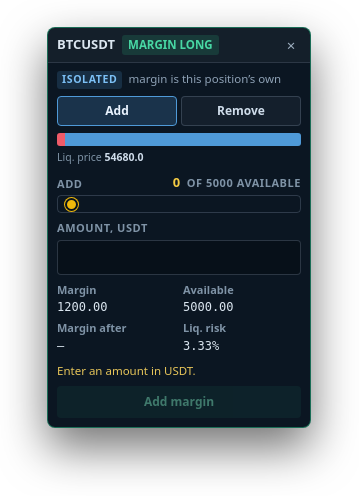
Test: FuturesPositionMarginEditor › pulls the liquidation price in when margin is taken out
The image size is (359, 496).
Click the button "Remove". click: x=241, y=111
box: x1=181 y1=96 x2=301 y2=126
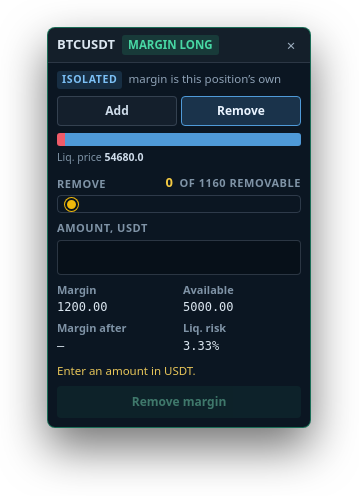
Type "200" into the field named "Margin amount in USDT". click: x=179, y=257
box: x1=57 y1=240 x2=301 y2=274
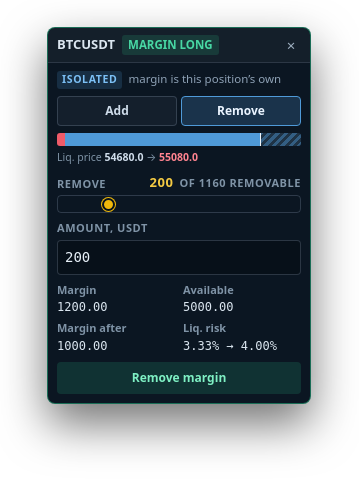
Check: the form named "Adjust BTCUSDT LONG position margin" shows "Liq. price 54680.0 → 55080.0", box x1=47 y1=27 x2=311 y2=404
